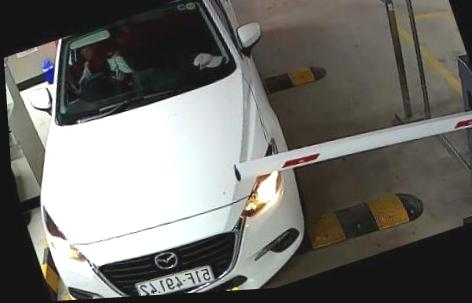License_Plate: (128, 257, 222, 295)
